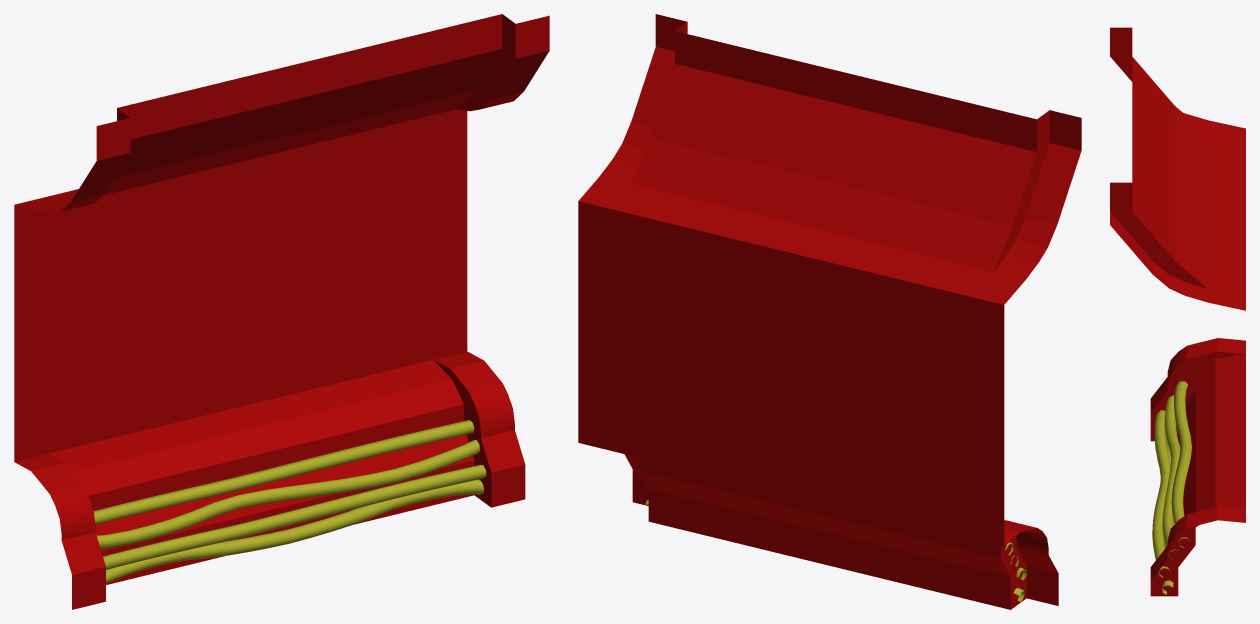
Rendered from Pared.fbx.
3 views of the same model, side by side, from view 1: azimuth 30°, elevation 25°; view 2: azimuth 150°, elevation 25°; view 3: azimuth 270°, elevation 25° (orthographic). The views are drawn at different scales.
Parts seen in each view (by area): view 1: Pared, Pared_Cables; view 2: Pared; view 3: Pared, Pared_Cables.
Boxes of the visible parts, left/top/right/bottom form: Pared: left=14, top=14, right=549, bottom=609; Pared_Cables: left=94, top=420, right=486, bottom=583; Pared: left=578, top=14, right=1081, bottom=609; Pared: left=1110, top=27, right=1245, bottom=596; Pared_Cables: left=1152, top=381, right=1191, bottom=594.
Bounding box in the file's own units: 4.68 × 4.95 × 1.47.
